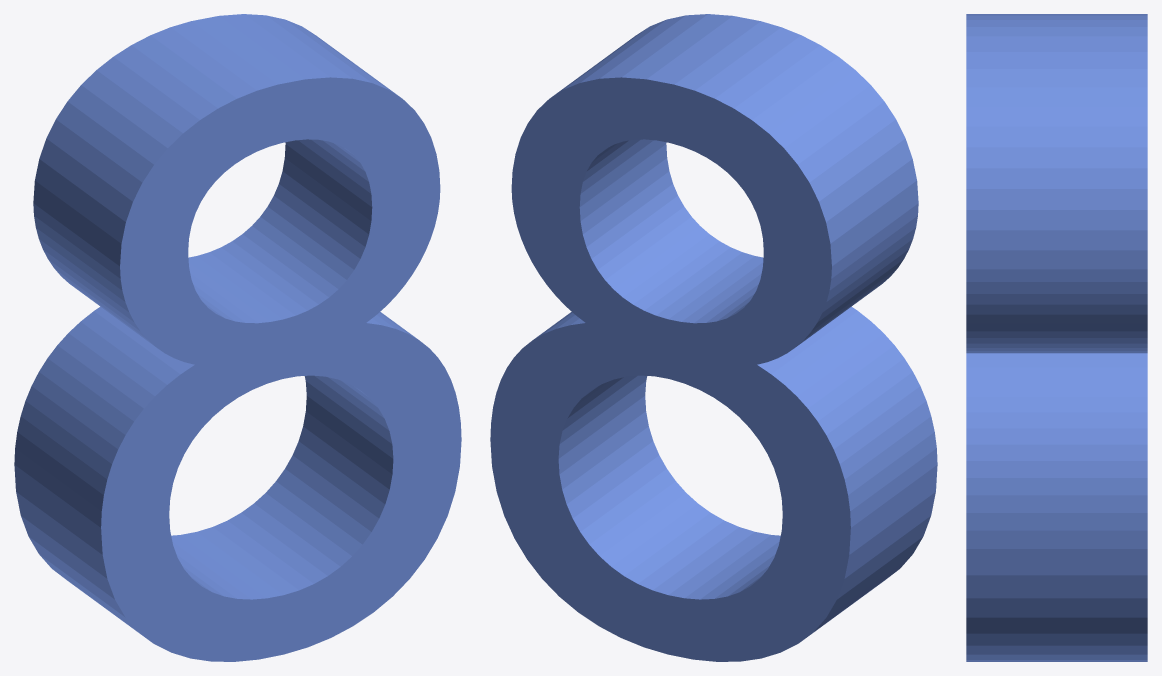
3 renders of one model, left to right at view 1: azimuth 30°, elevation 25°; view 2: azimuth 150°, elevation 25°; view 3: azimuth 270°, elevation 25°, orthographic. The views are drawn at different scales.
Parts seen in each view (by area): view 1: 1.007; view 2: 1.007; view 3: 1.007.
Part boxes in pixels (x1,y1,x2,y2): 1.007: (14, 14, 461, 661); 1.007: (490, 14, 937, 661); 1.007: (966, 14, 1147, 661).
Size of the model in its own units: 40.82 by 61.84 by 17.
